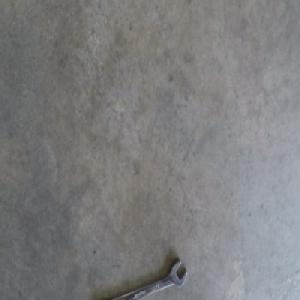Wrench: (114, 256, 186, 299)
